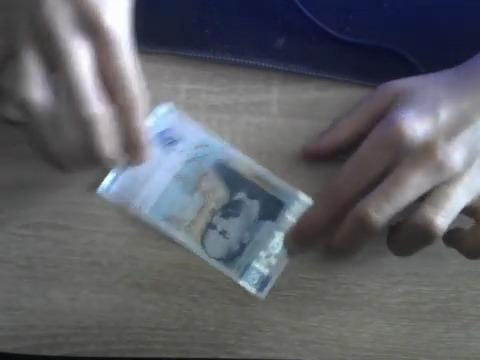20leva: (96, 102, 314, 301)
